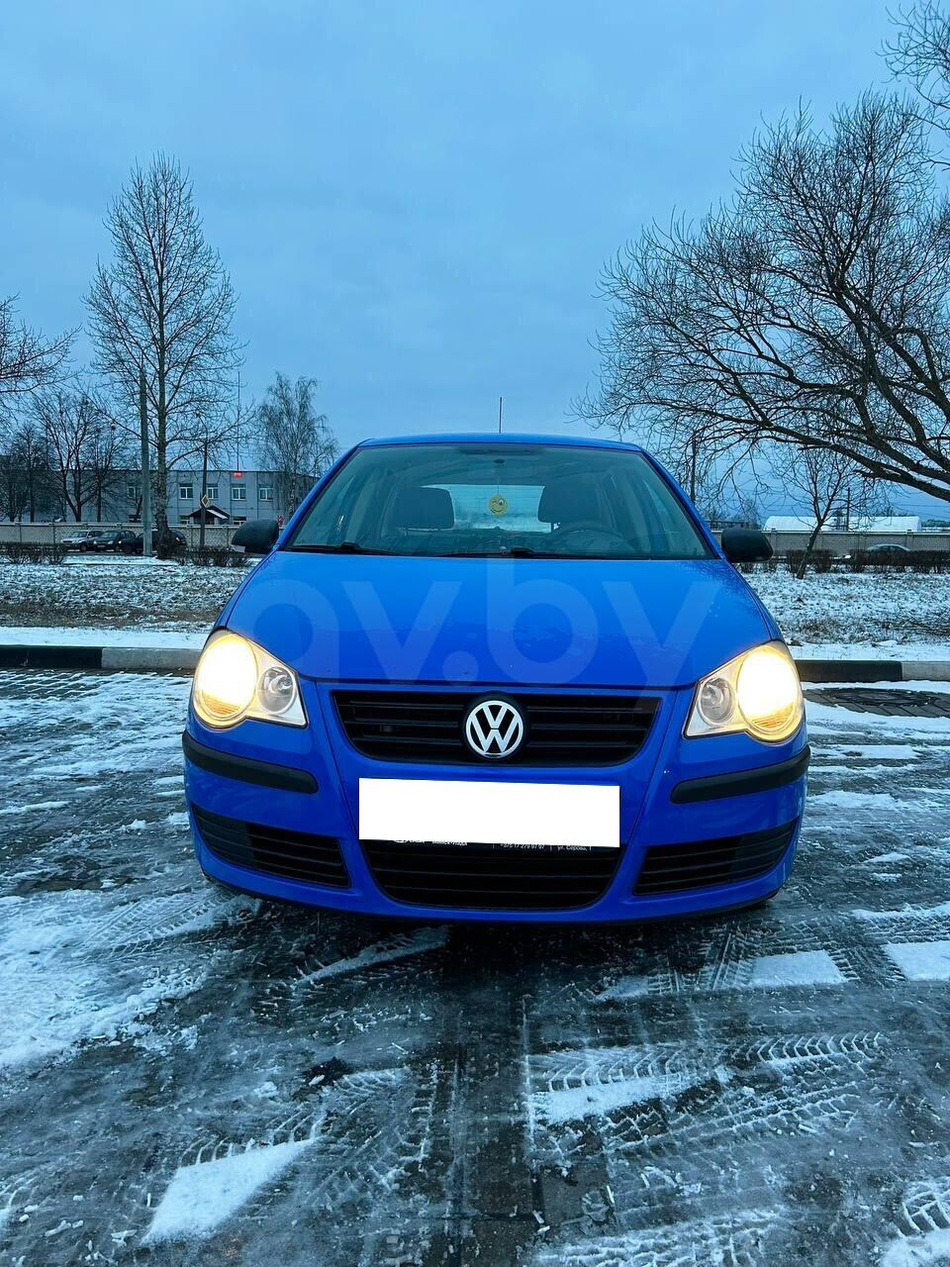Polo_2005-2009: (168, 416, 841, 962)
